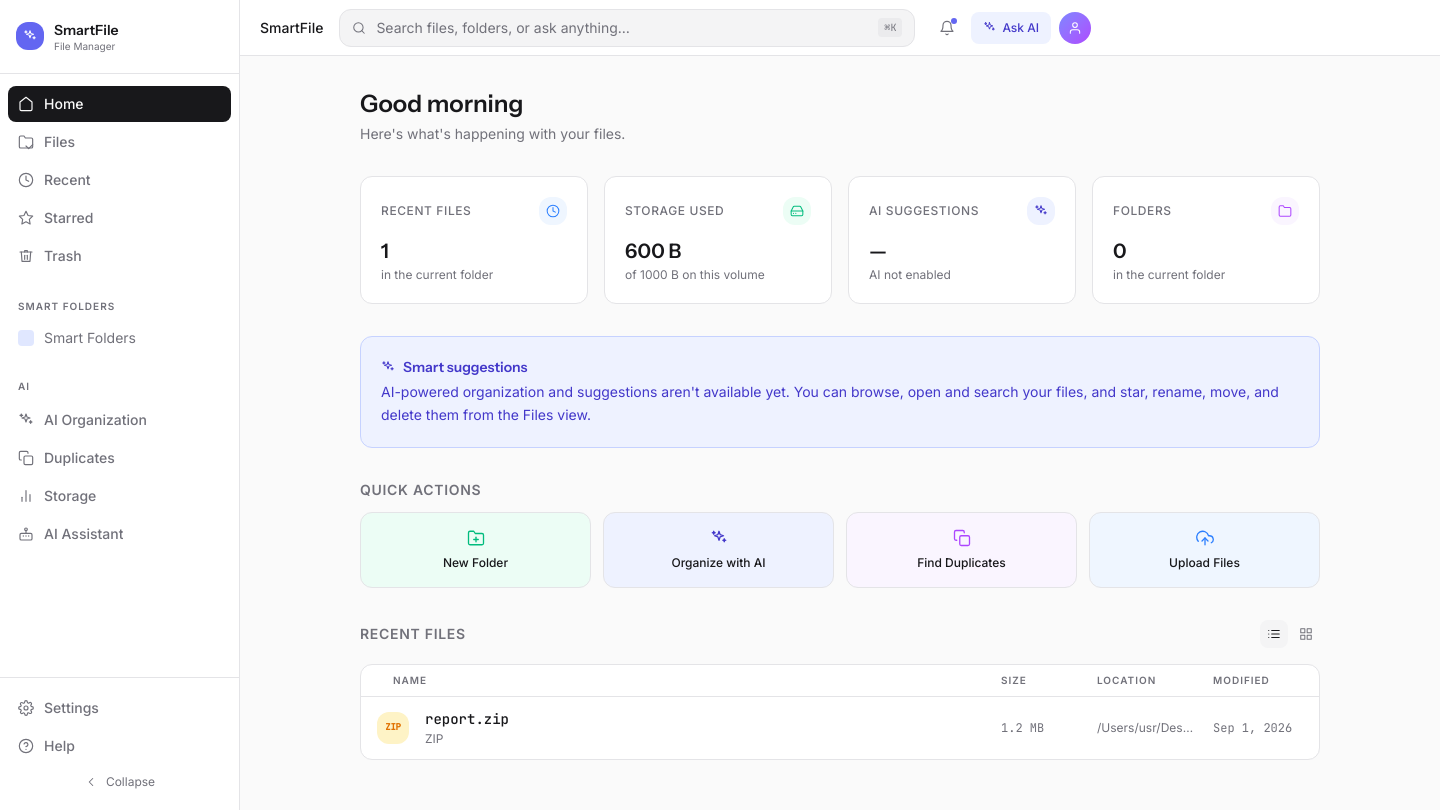
it: App keyboard shortcuts › ⌘N opens the existing New folder modal in the Files view
Expected: the text "report.zip" is shown, [425,710,509,728]
Click the button "Files". click: [120, 142]
box: [8,124,231,160]
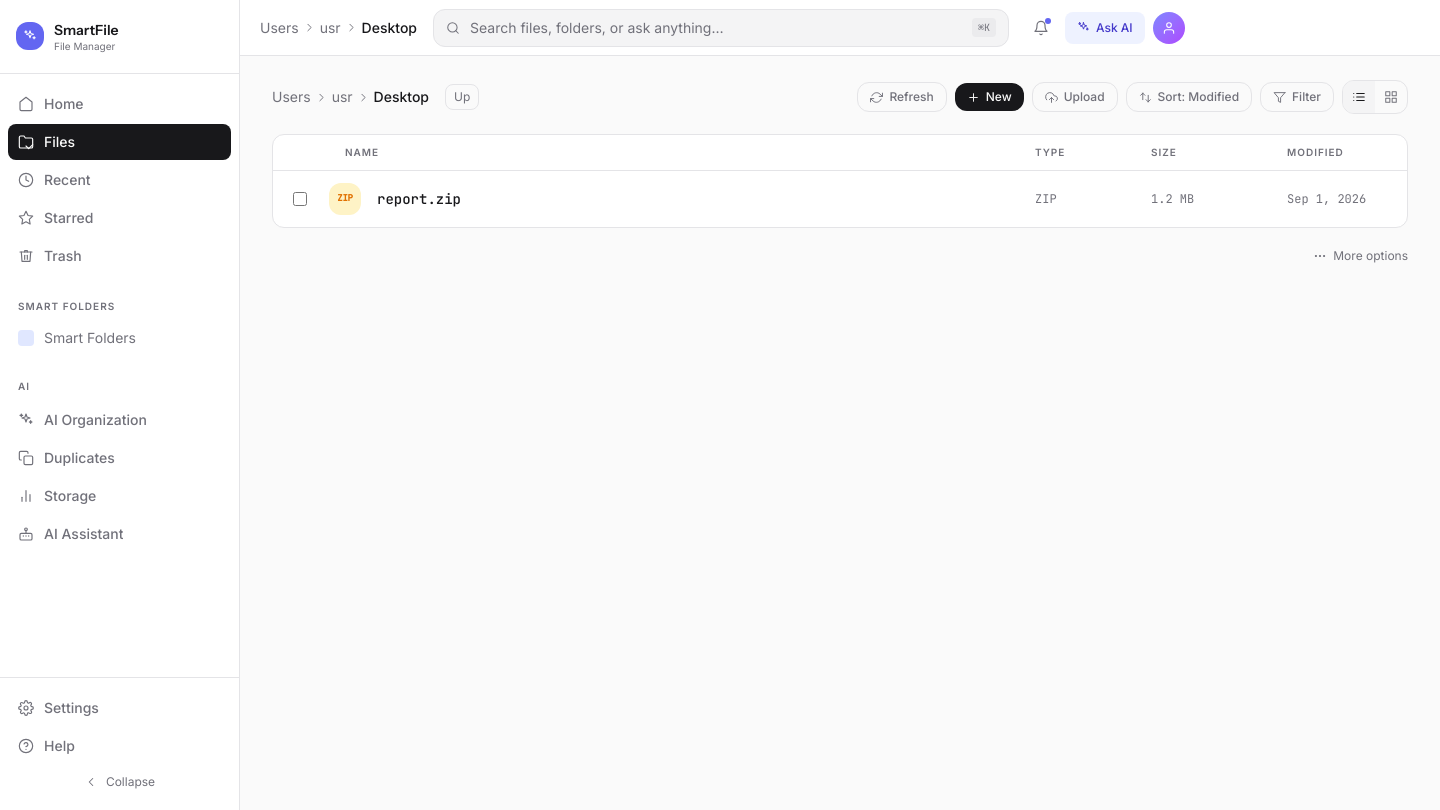
Expected: the text "report.zip" is shown, [377,189,461,209]
Press n
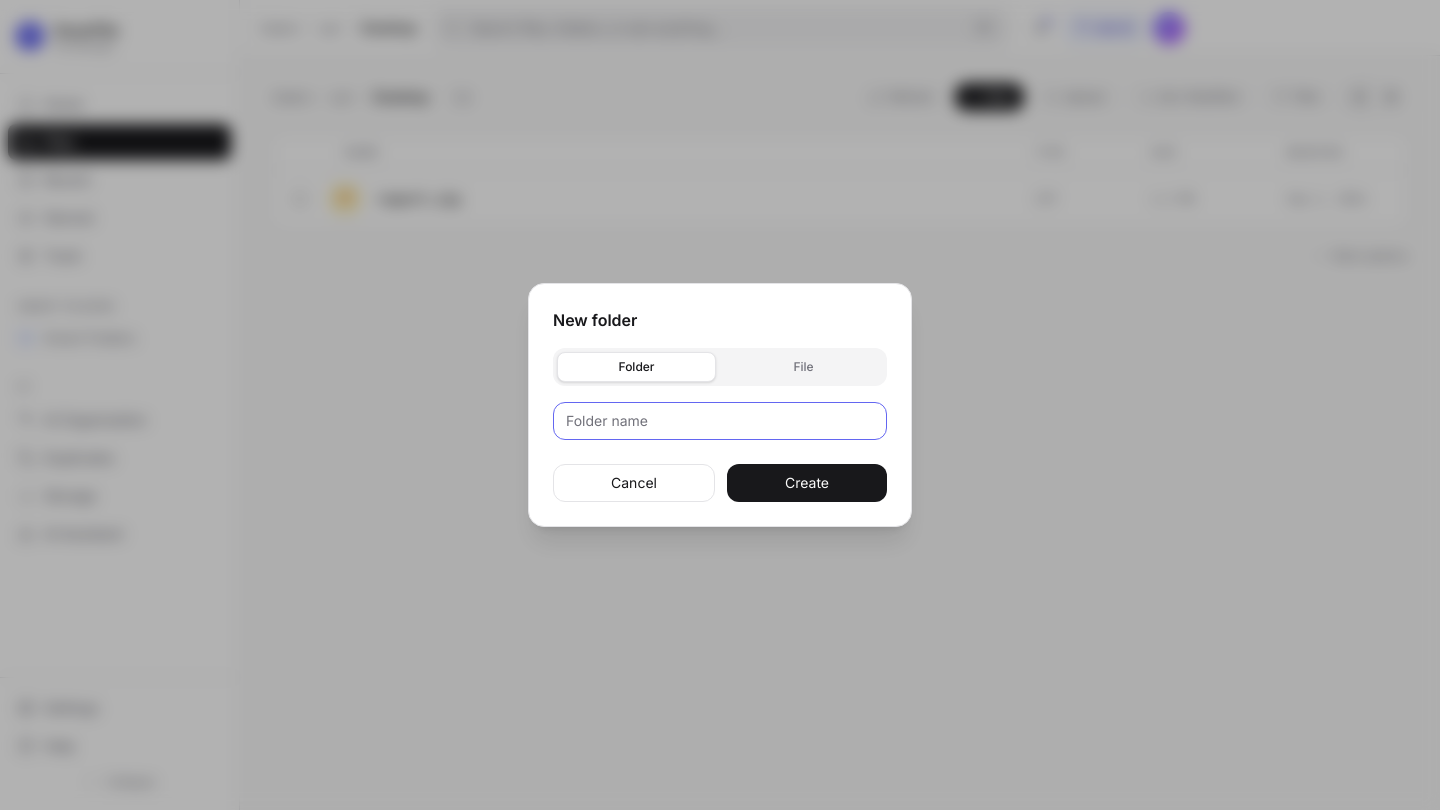
Now the text "New folder" is shown, box [553,310,637,330]
